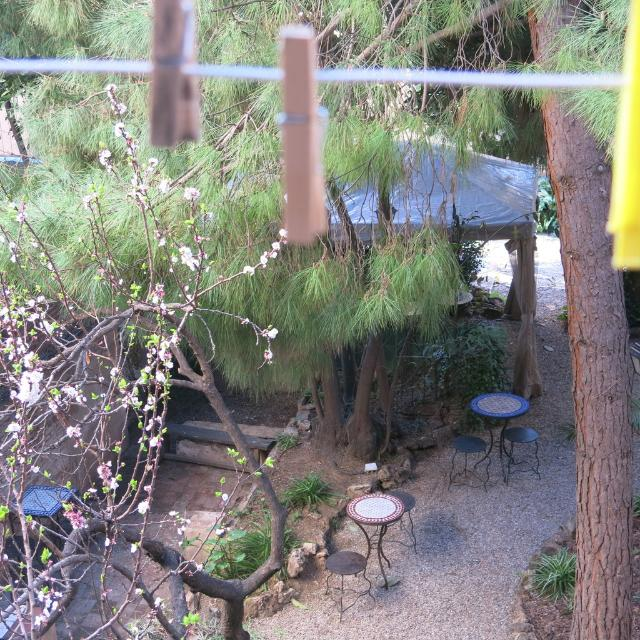Flower: (2, 157, 282, 627), (88, 86, 152, 148)
